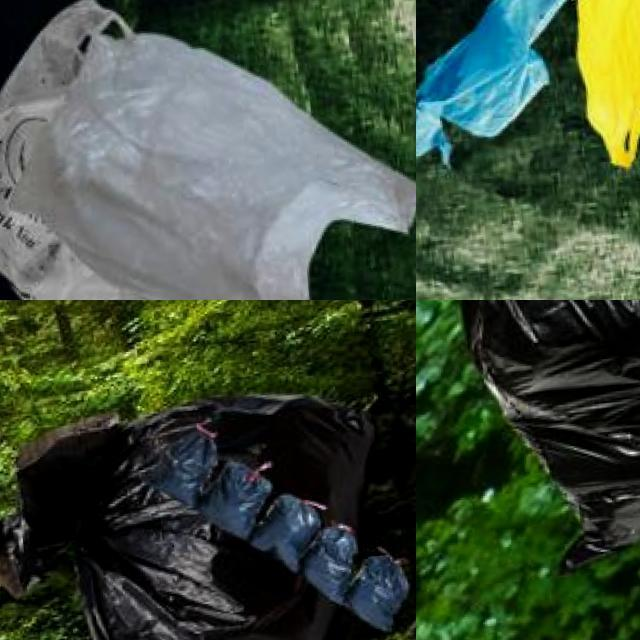waste: (39, 7, 416, 300), (0, 388, 403, 640), (452, 300, 640, 581), (0, 0, 151, 300), (148, 418, 216, 512), (203, 452, 274, 540), (300, 520, 358, 610), (256, 489, 318, 571), (346, 548, 408, 630)
